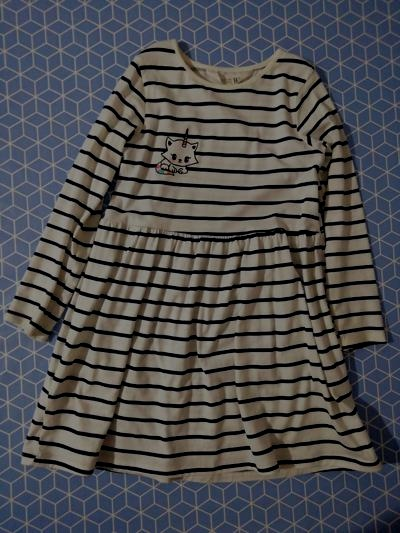Dress: (9, 47, 394, 488)
